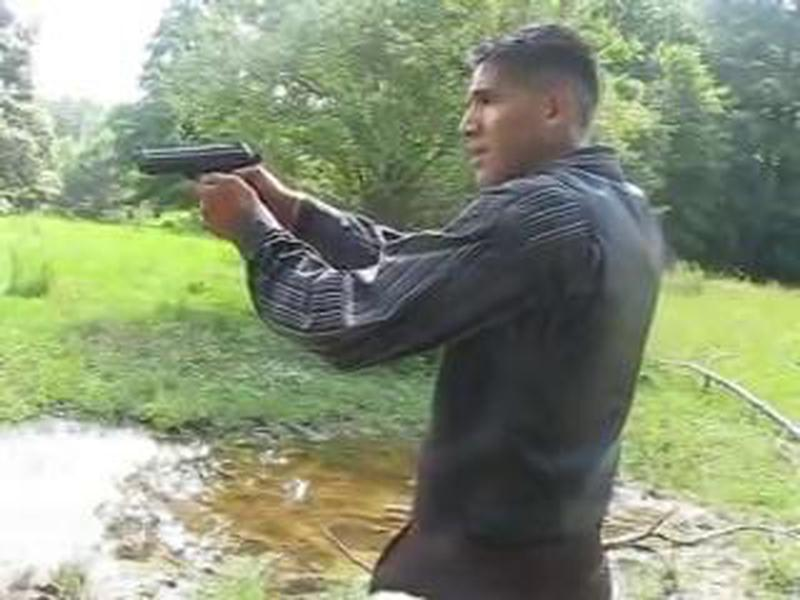Pistola: (125, 126, 291, 227)
